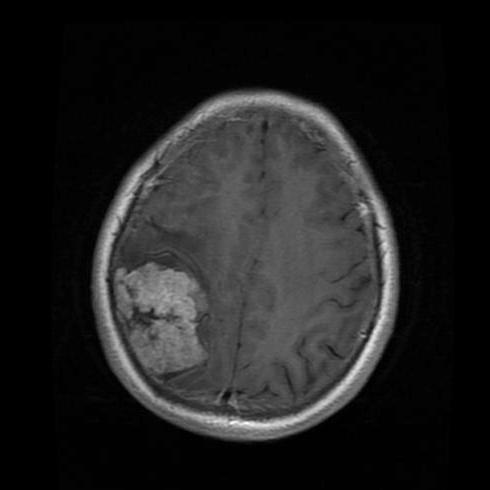Tumour-Pituitary: (105, 245, 243, 398)
